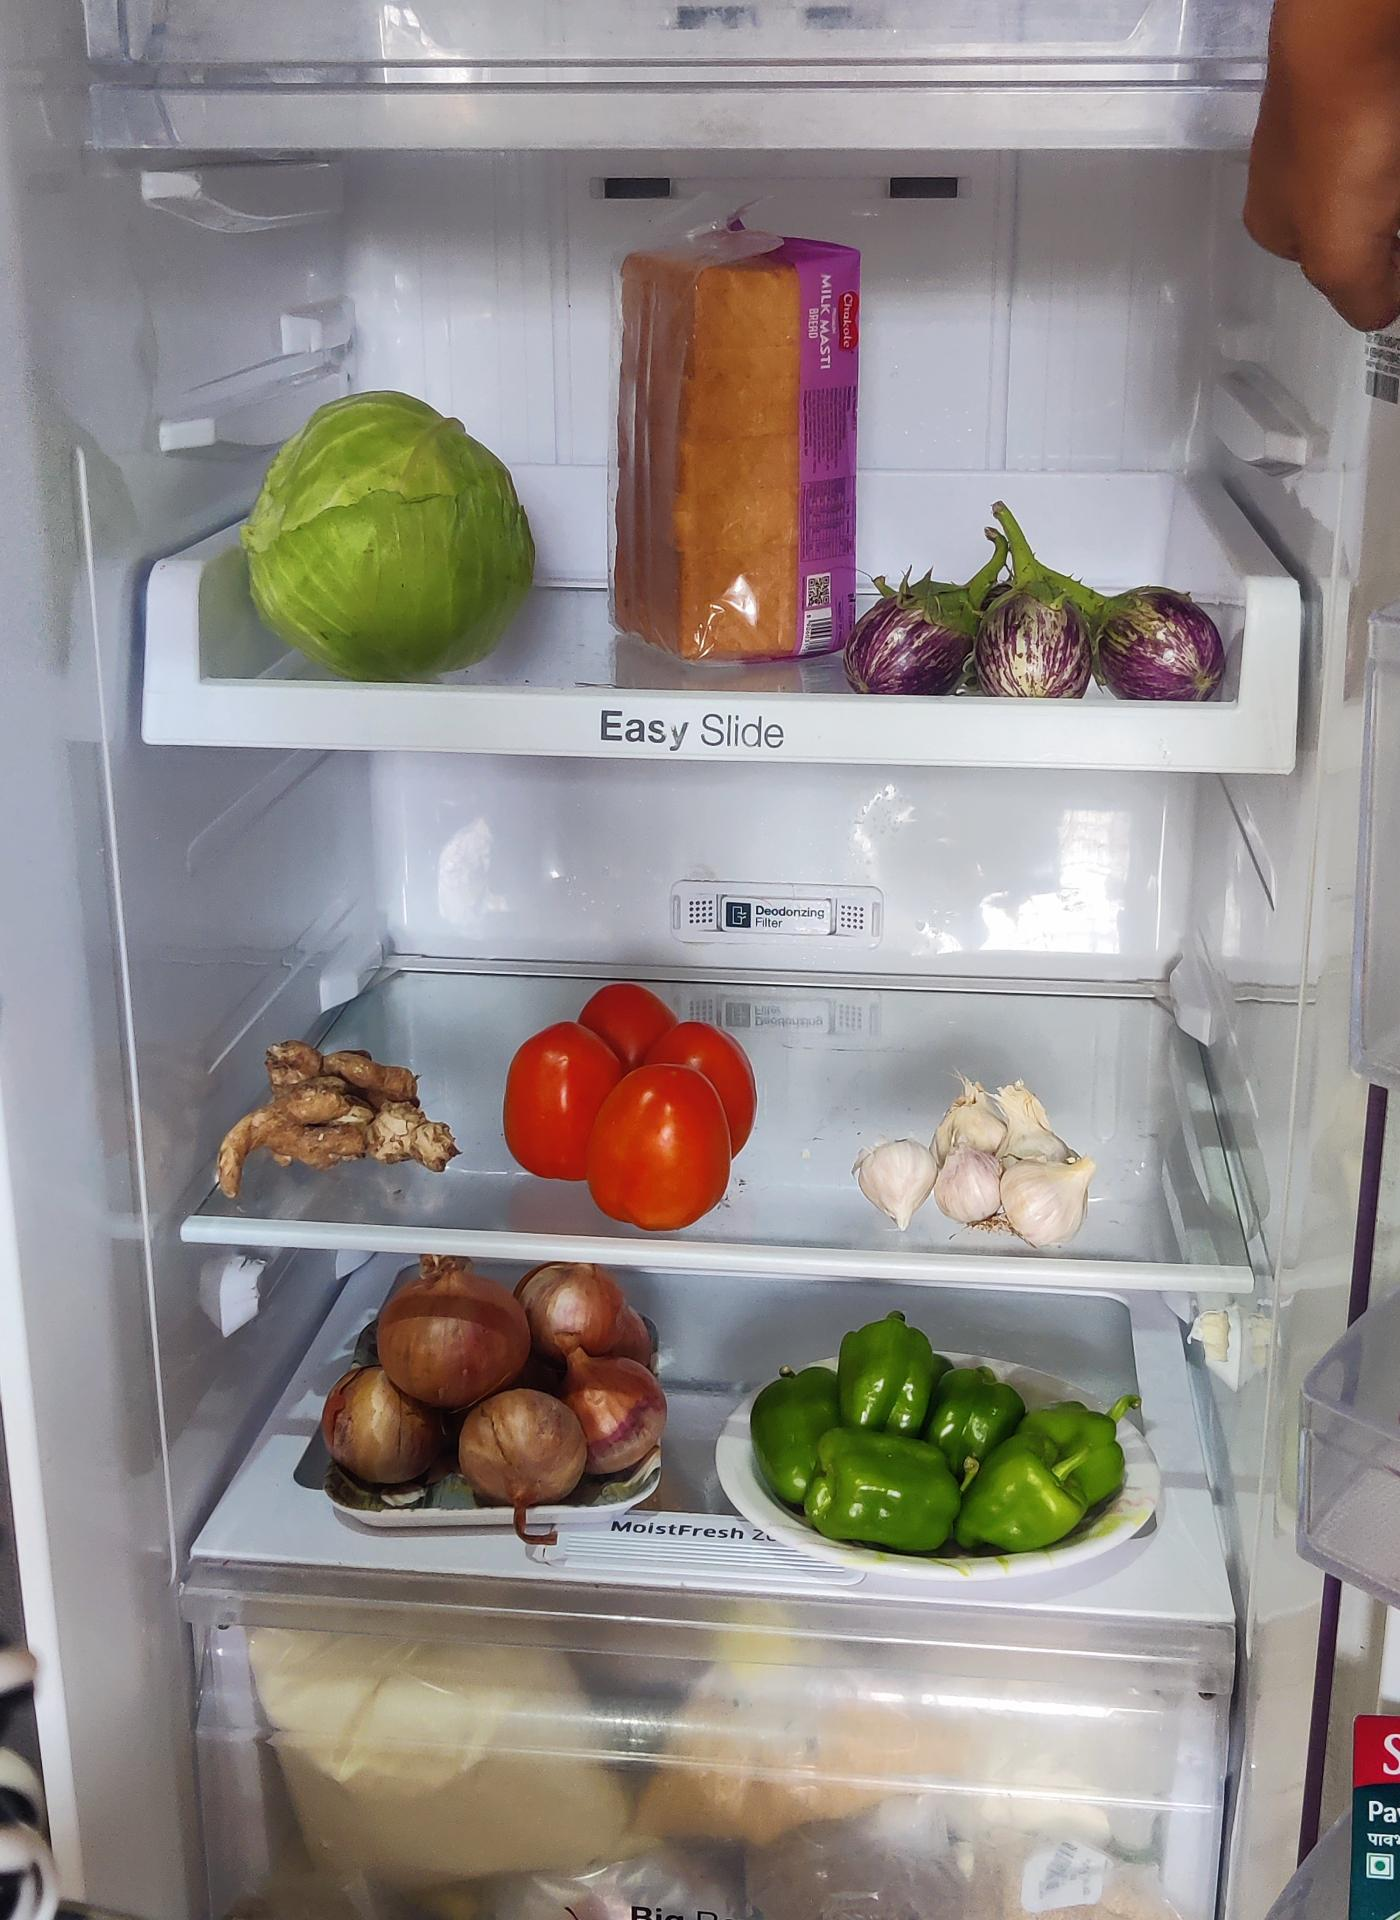bread: (605, 222, 871, 662)
brinjal: (832, 558, 1232, 675)
cabbage: (245, 388, 544, 672)
capsicum: (750, 1316, 1139, 1556)
garlic: (860, 1078, 1100, 1254)
ginger: (209, 1039, 462, 1188)
onion: (319, 1267, 666, 1515)
tomato: (504, 972, 760, 1221)
